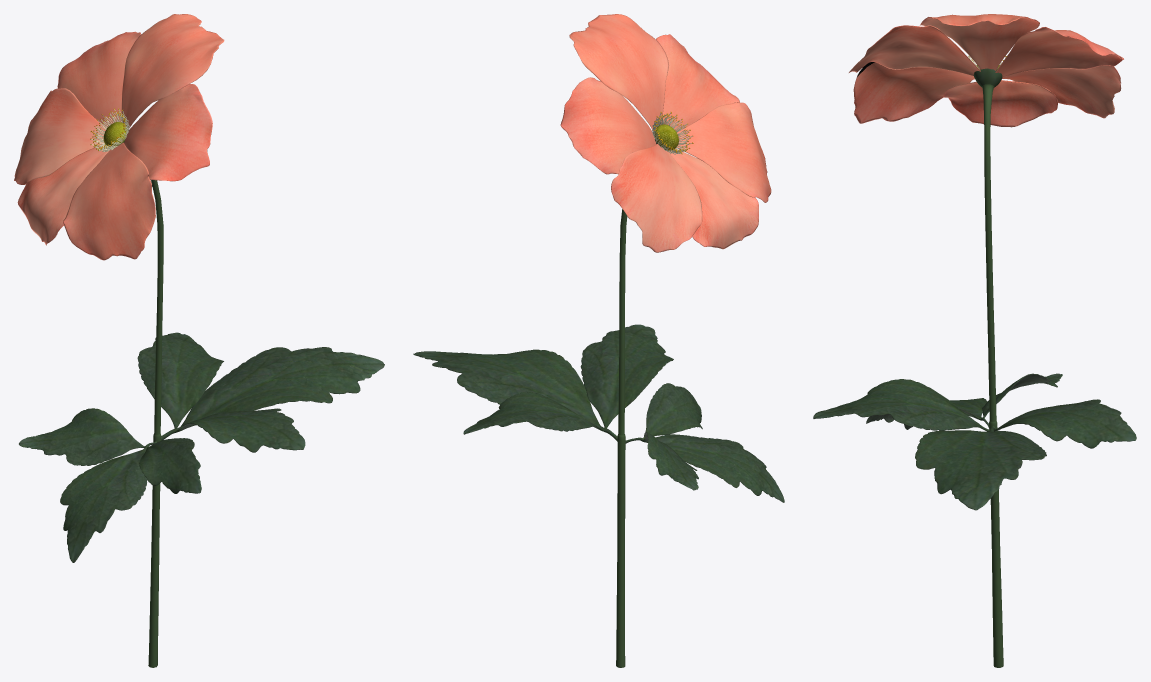
The model's file is anemoneorangecp.glb.
3 renders of one model, left to right at view 1: azimuth 30°, elevation 25°; view 2: azimuth 150°, elevation 25°; view 3: azimuth 270°, elevation 25°, orthographic. The views are drawn at different scales.
Visible parts, largest first — view 1: 12973_anemone_flower_v1_l2; view 2: 12973_anemone_flower_v1_l2; view 3: 12973_anemone_flower_v1_l2.
Part boxes in pixels (x1,y1,x2,y2): 12973_anemone_flower_v1_l2: (14, 14, 384, 667); 12973_anemone_flower_v1_l2: (413, 14, 784, 667); 12973_anemone_flower_v1_l2: (813, 14, 1136, 667).
Bounding box in the file's own units: 2.56 × 4.5 × 1.97.
Materials: 1 (1 with a texture image).
